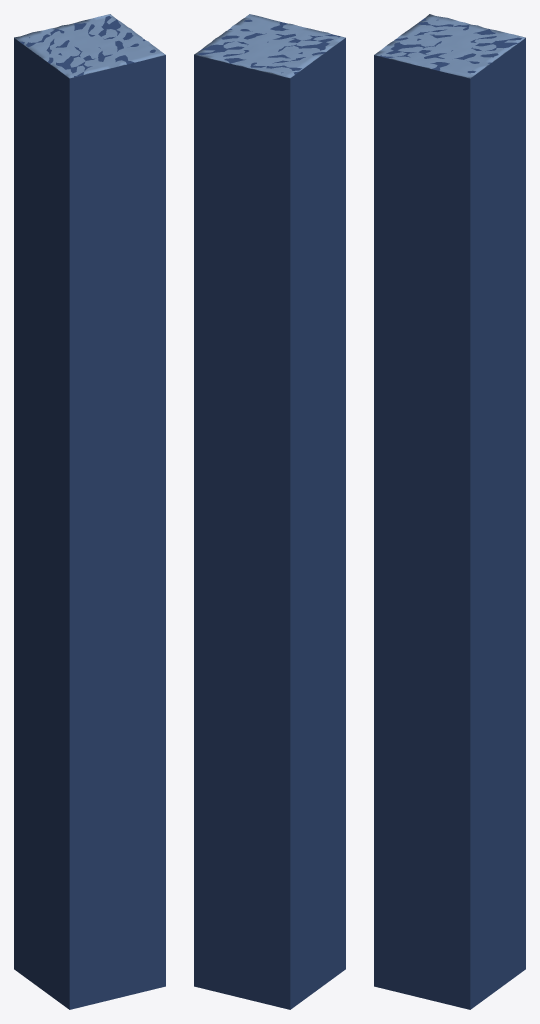
File: Terrain.fbx
3 renders of one model, left to right at view 1: azimuth 30°, elevation 25°; view 2: azimuth 150°, elevation 25°; view 3: azimuth 330°, elevation 25°, orthographic.
Visible parts, largest first — view 1: Flat, Terrain; view 2: Flat, Terrain; view 3: Flat, Terrain.
Boxes of the visible parts, x1=… form: Flat: x1=14, y1=16, x2=165, y2=1009; Terrain: x1=14, y1=14, x2=165, y2=78; Flat: x1=194, y1=19, x2=345, y2=1009; Terrain: x1=194, y1=14, x2=345, y2=78; Flat: x1=374, y1=18, x2=525, y2=1009; Terrain: x1=374, y1=14, x2=525, y2=78.
Bounding box in the file's own units: 27.03 × 250 × 27.03.
